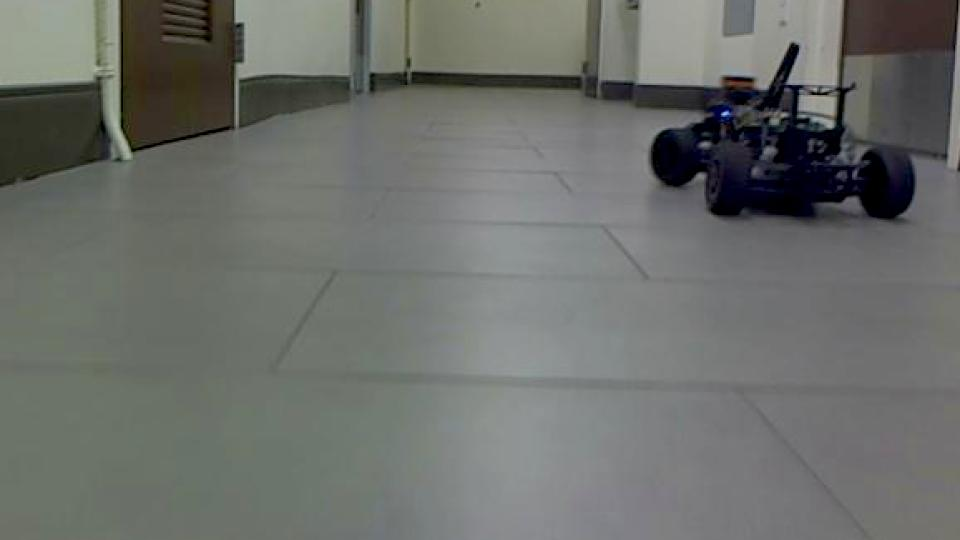car: (644, 38, 918, 223)
